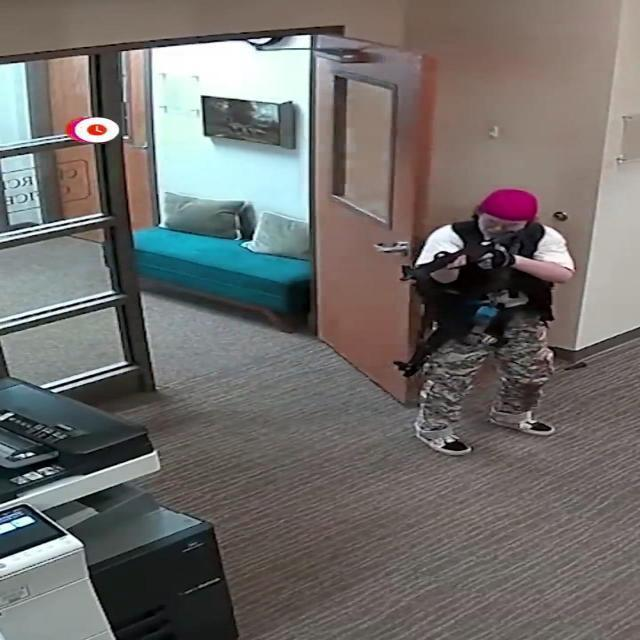pistol: (400, 230, 524, 284)
